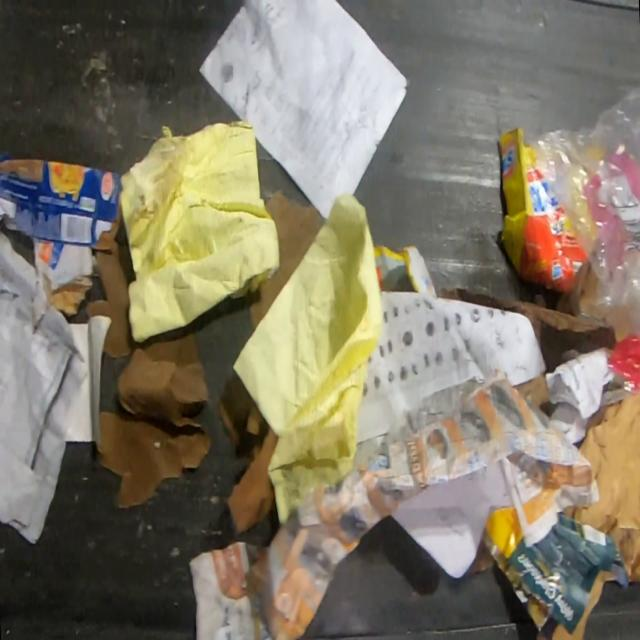cardboard: (497, 125, 589, 295), (561, 390, 640, 583), (0, 151, 124, 251), (31, 237, 98, 317), (372, 242, 439, 299), (483, 504, 523, 561), (512, 373, 550, 412)
soft_plastic: (525, 85, 640, 397)
